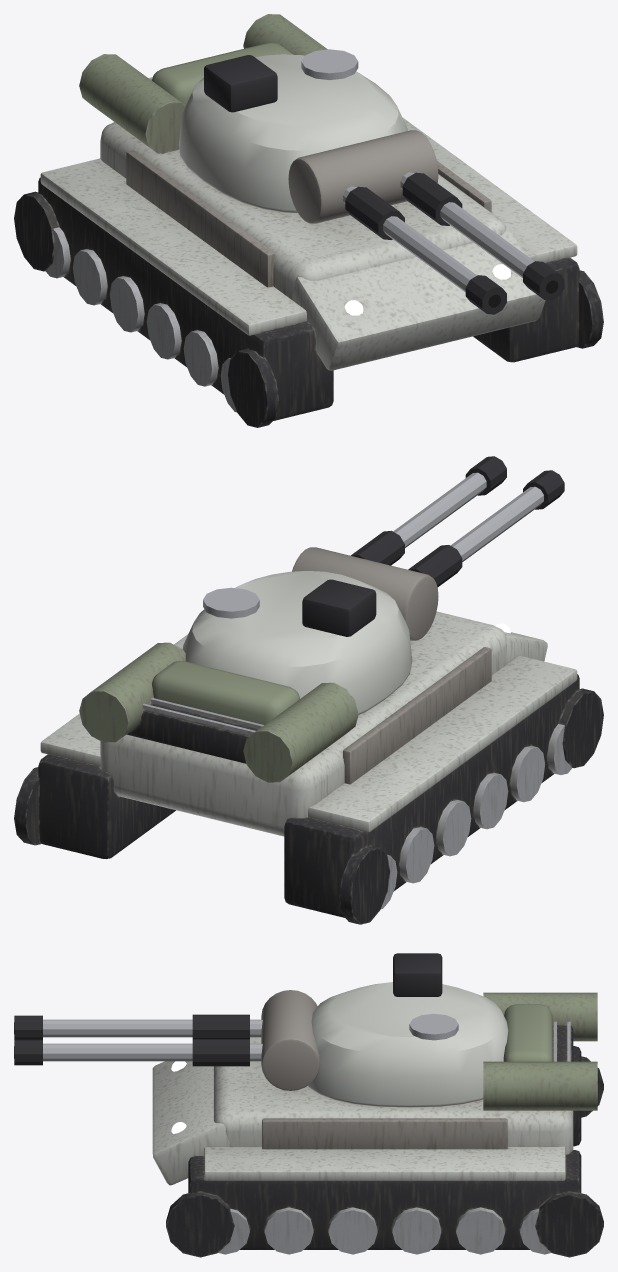
Rendered from heavy_tank.glb.
3 views of the same model, one above another, from view 1: azimuth 30°, elevation 25°; view 2: azimuth 150°, elevation 25°; view 3: azimuth 270°, elevation 25° (orthographic). The views are drawn at different scales.
Parts seen in each view (by area): view 1: Hull, Turret, Barrel; view 2: Hull, Turret, Barrel; view 3: Hull, Turret, Barrel.
Part boxes in pixels (<box>): Hull: <box>14,14,603,427</box>; Turret: <box>152,42,438,223</box>; Barrel: <box>343,172,564,314</box>; Hull: <box>14,611,603,924</box>; Turret: <box>152,547,438,724</box>; Barrel: <box>351,456,564,587</box>; Hull: <box>152,992,603,1257</box>; Turret: <box>261,953,552,1107</box>; Barrel: <box>14,1014,262,1066</box>.
Size of the model in its own units: 4.1 by 2.74 by 7.21.
12 materials, 6 textured.
